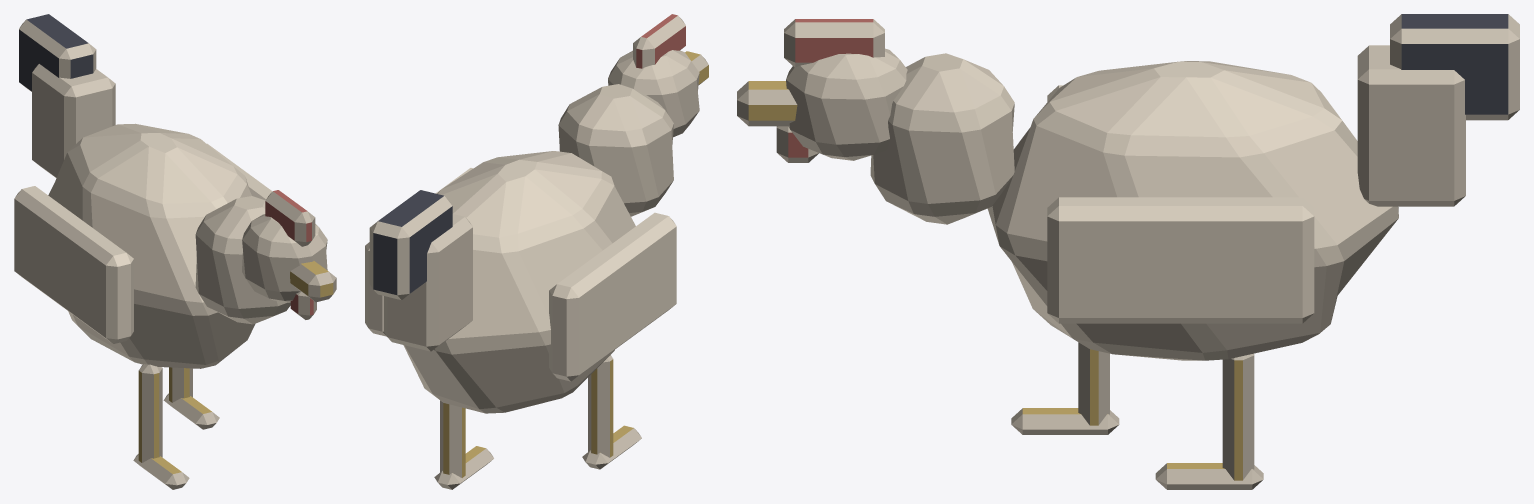
File: SM_Kit_galinha.fbx
3 renders of one model, left to right at view 1: azimuth 30°, elevation 25°; view 2: azimuth 150°, elevation 25°; view 3: azimuth 270°, elevation 25°, orthographic. The views are drawn at different scales.
Visible parts, largest first — view 1: SM_Kit_galinha; view 2: SM_Kit_galinha; view 3: SM_Kit_galinha.
Boxes of the visible parts, <box> form: SM_Kit_galinha: <box>14,14,336,489</box>; SM_Kit_galinha: <box>365,14,708,489</box>; SM_Kit_galinha: <box>737,14,1519,489</box>.
Size of what is drawn, in the model's own units: 21.4 by 33.55 by 54.25.
